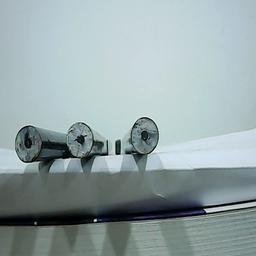pen: (129, 115, 159, 154), (13, 124, 41, 162), (65, 119, 92, 156)
